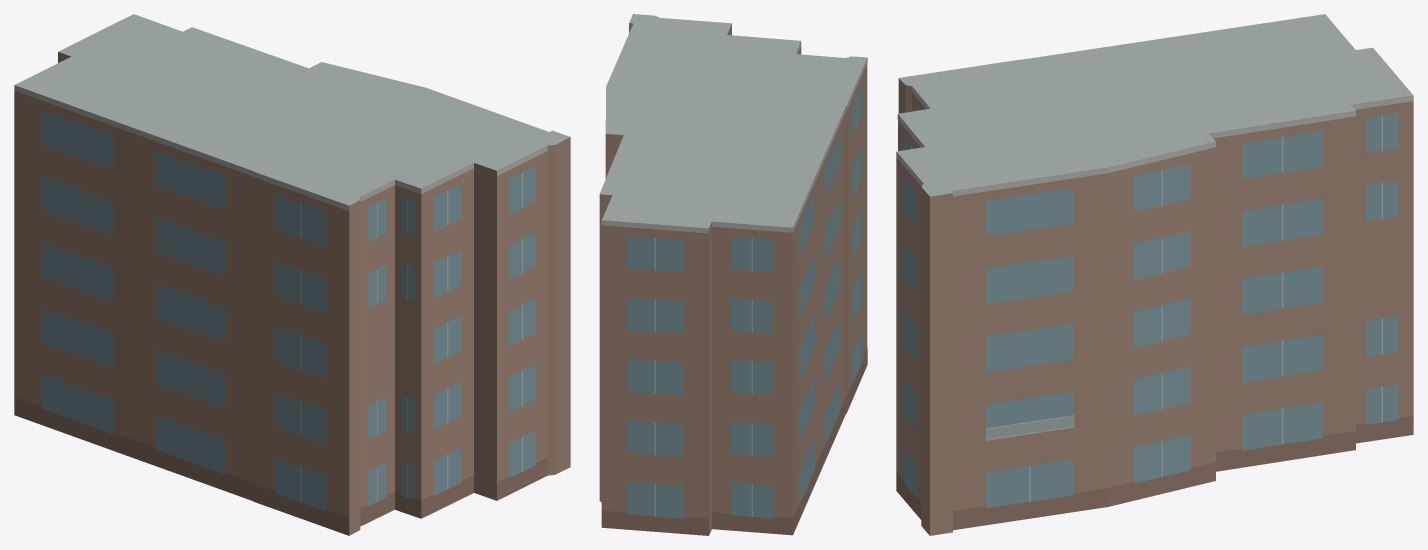
The model's file is survey-upis-32878696.glb.
3 renders of one model, left to right at view 1: azimuth 30°, elevation 25°; view 2: azimuth 150°, elevation 25°; view 3: azimuth 270°, elevation 25°, orthographic. The views are drawn at different scales.
Parts seen in each view (by area): view 1: survey-upis-32878696.tmp; view 2: survey-upis-32878696.tmp; view 3: survey-upis-32878696.tmp.
Boxes of the visible parts, x1=… form: survey-upis-32878696.tmp: x1=14, y1=14, x2=570, y2=535; survey-upis-32878696.tmp: x1=599, y1=14, x2=867, y2=535; survey-upis-32878696.tmp: x1=896, y1=14, x2=1413, y2=535.
Bounding box in the file's own units: 16.97 × 14.7 × 20.32.
